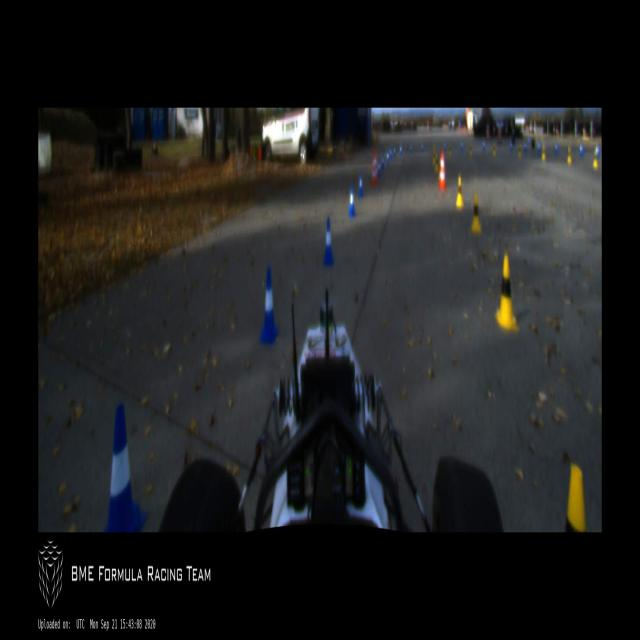blue_cone: (104, 404, 148, 532), (260, 266, 280, 343), (322, 216, 335, 266), (348, 184, 355, 218), (357, 171, 364, 195), (377, 158, 381, 177), (381, 153, 385, 170), (386, 149, 389, 165), (596, 143, 599, 159), (482, 139, 486, 150), (510, 140, 513, 152), (555, 143, 558, 154), (580, 144, 582, 156), (390, 147, 392, 158), (461, 139, 463, 150), (538, 141, 540, 152), (394, 147, 396, 157), (400, 146, 402, 156), (421, 142, 423, 150), (444, 142, 446, 150), (524, 142, 526, 150), (410, 145, 412, 152)
large_orange_cone: (439, 149, 447, 189), (372, 152, 376, 188), (374, 150, 378, 185)
yellow_cone: (496, 254, 519, 332), (566, 462, 588, 532), (472, 194, 481, 232), (455, 174, 464, 208), (540, 139, 546, 159), (592, 149, 598, 168), (567, 143, 572, 162), (433, 144, 437, 165), (434, 153, 438, 173), (469, 142, 474, 158), (448, 141, 452, 157), (518, 144, 521, 157), (493, 143, 496, 155)
